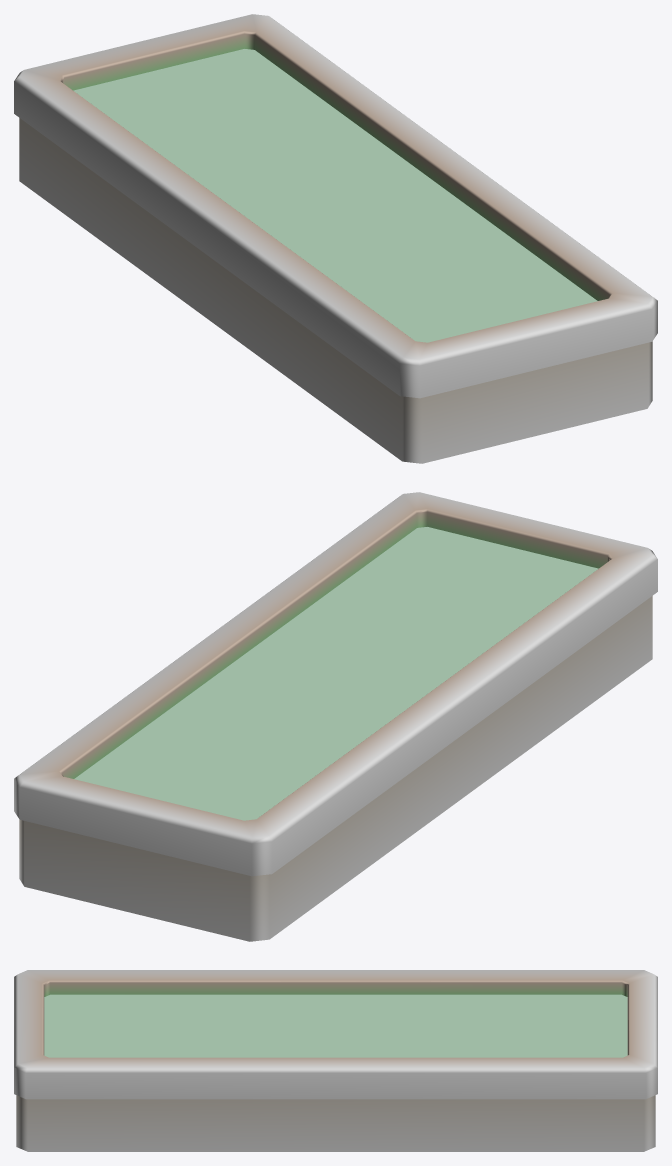
The model's file is viridian-pot-long.glb.
3 views of the same model, one above another, from view 1: azimuth 30°, elevation 25°; view 2: azimuth 150°, elevation 25°; view 3: azimuth 270°, elevation 25° (orthographic). The views are drawn at different scales.
Visible parts, largest first — view 1: viridian-pot-long; view 2: viridian-pot-long; view 3: viridian-pot-long.
Boxes of the visible parts, <box> form: viridian-pot-long: <box>14,14,657,463</box>; viridian-pot-long: <box>14,492,657,941</box>; viridian-pot-long: <box>14,970,657,1151</box>.
Size of the model in its own units: 1.03 by 0.3971 by 2.77.
